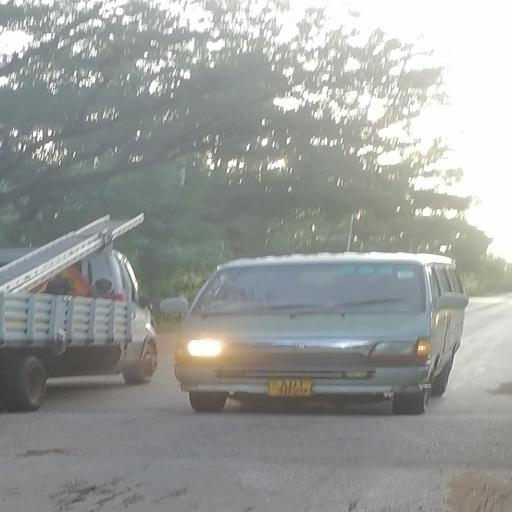number-plates: (266, 377, 314, 399)
